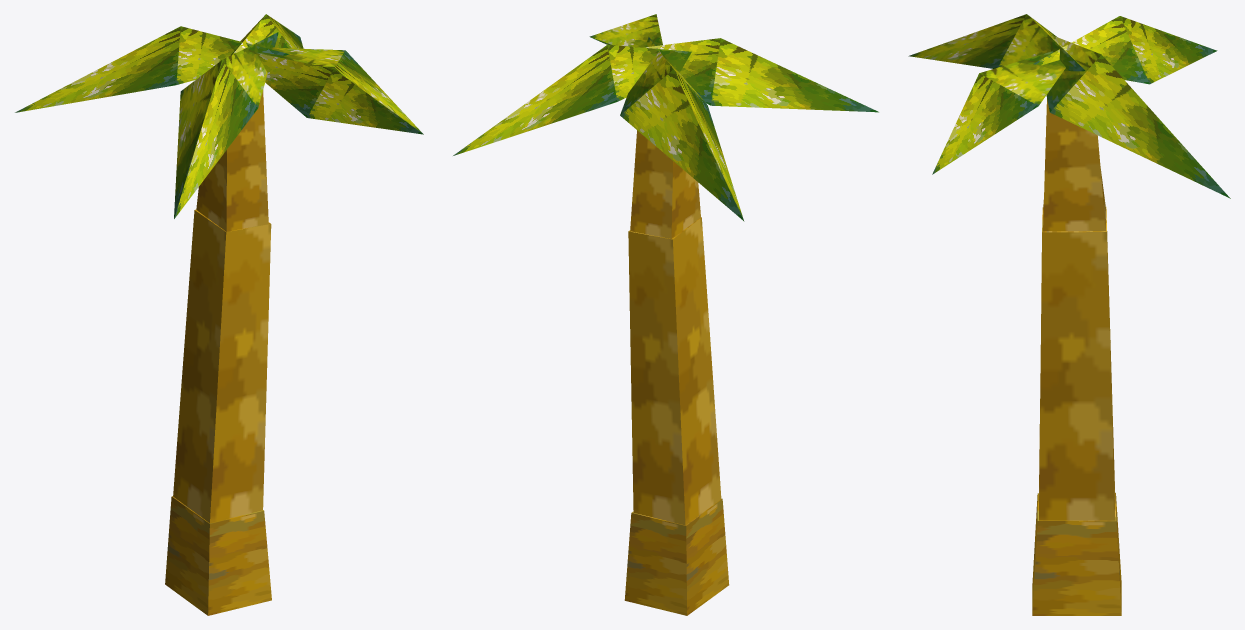
Rendered from Coqueiro_Lendario.obj.
3 renders of one model, left to right at view 1: azimuth 30°, elevation 25°; view 2: azimuth 150°, elevation 25°; view 3: azimuth 270°, elevation 25°, orthographic. The views are drawn at different scales.
Parts seen in each view (by area): view 1: tronco, pyramid; view 2: tronco, pyramid; view 3: tronco, pyramid.
Part boxes in pixels (x1,y1,x2,y2): tronco: [165, 90, 271, 615]; pyramid: [15, 14, 423, 218]; tronco: [624, 130, 729, 615]; pyramid: [453, 14, 878, 221]; tronco: [1032, 99, 1121, 615]; pyramid: [908, 14, 1230, 198].
Bounding box in the file's own units: 3.43 × 6.23 × 3.16.
Materials: 1 (1 with a texture image).
